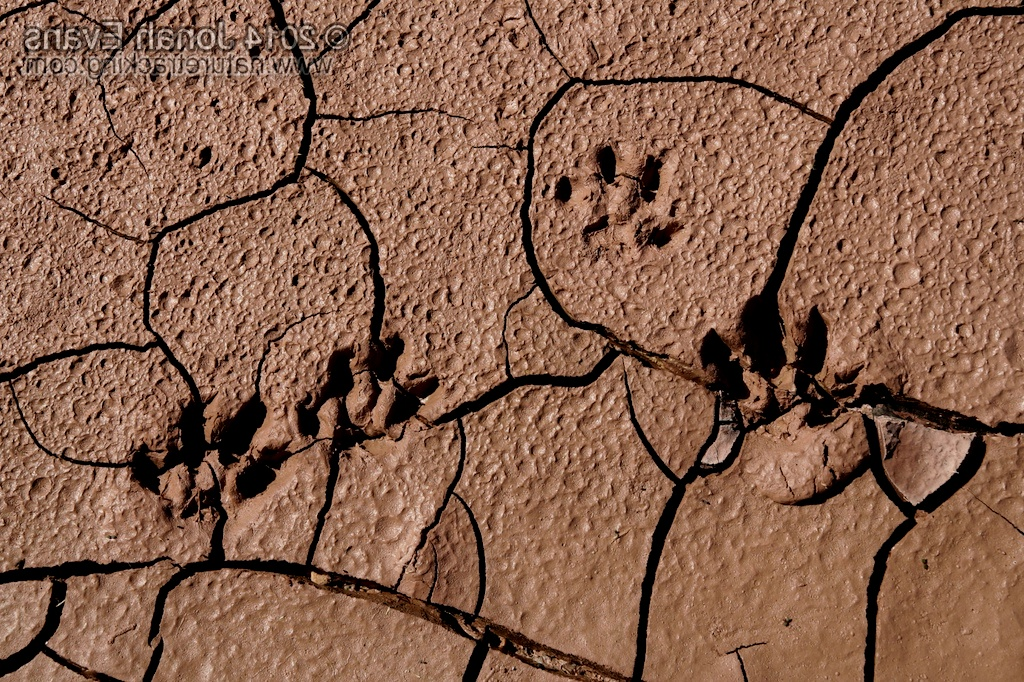lynx: (106, 316, 476, 551), (686, 275, 918, 512), (528, 133, 690, 279)
